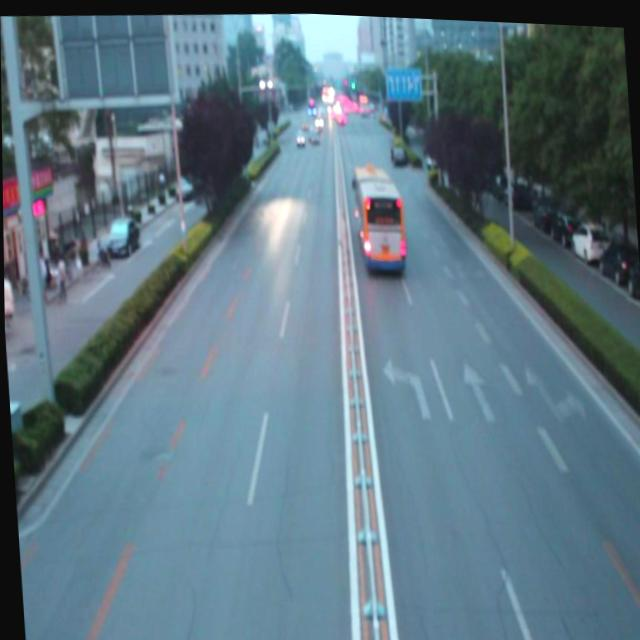van: (351, 157, 402, 267)
